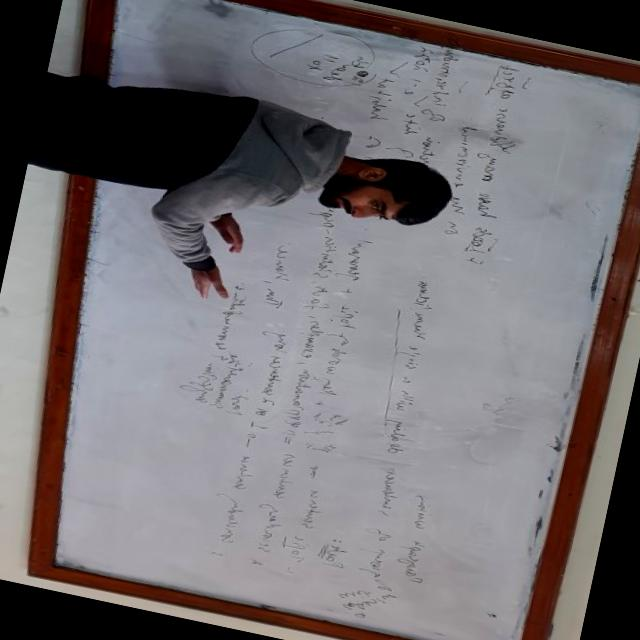Instructor: (31, 58, 455, 262)
White-board: (43, 0, 640, 640)
